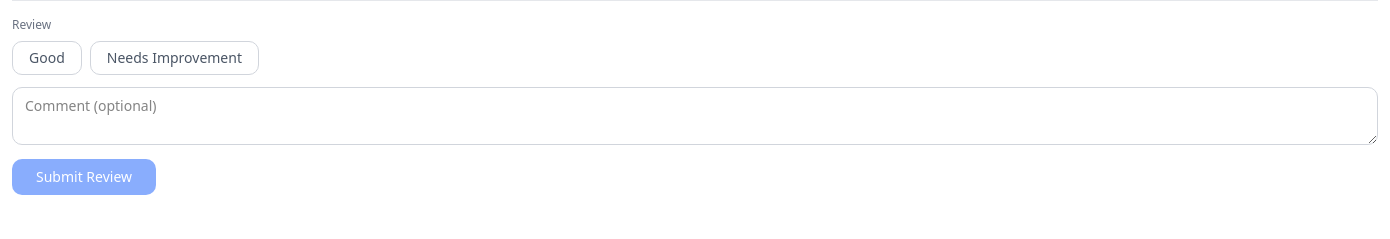
Test: rejects a malformed successful review reply without closing the draft
This screenshot has width=1390, height=239.
Click the button "Good".
click(47, 58)  # box [12,41,82,75]
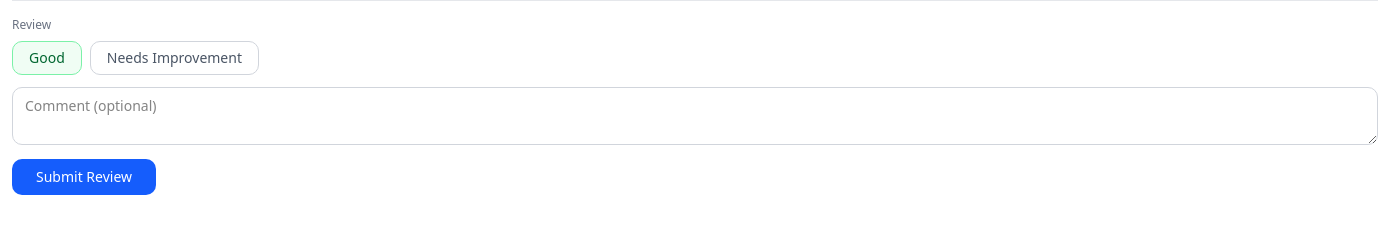
Click the button "Submit Review".
click(84, 177)  # box [12,159,156,195]
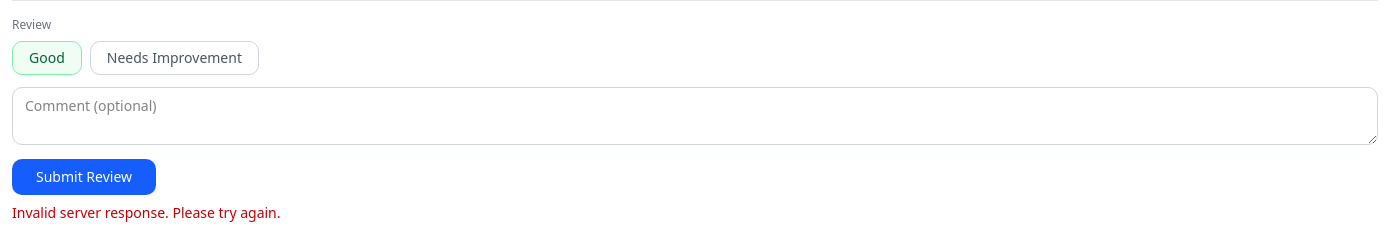
Expected: the message shows "Invalid server response", [12,203,280,222]
